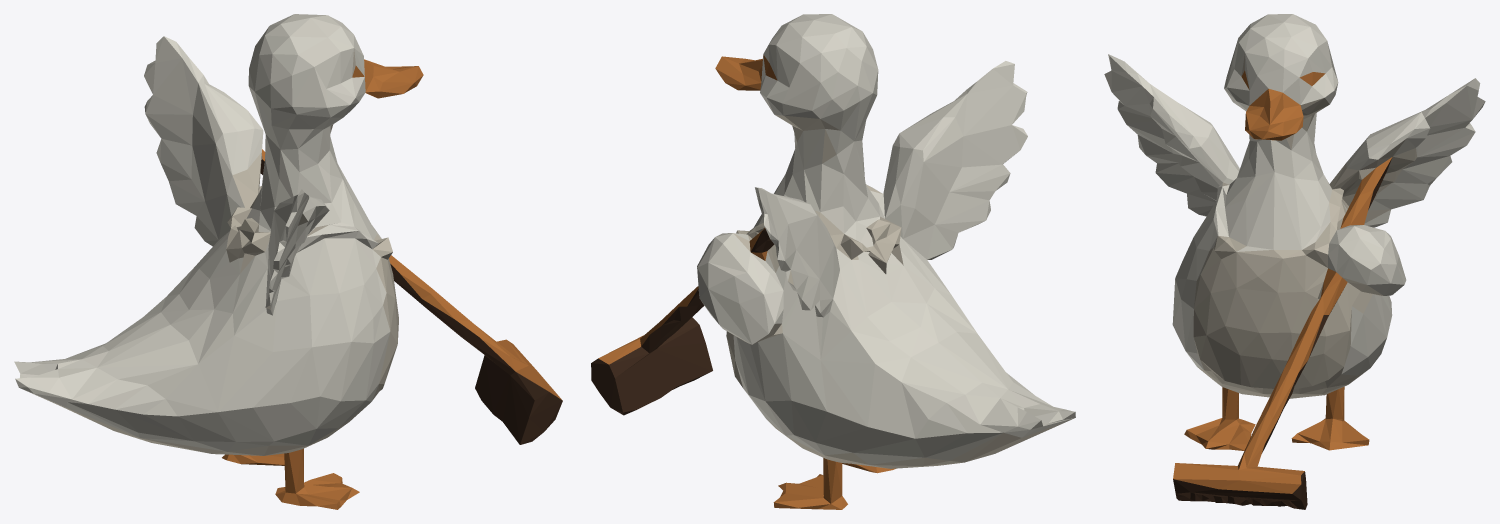
3 renders of one model, left to right at view 1: azimuth 30°, elevation 25°; view 2: azimuth 150°, elevation 25°; view 3: azimuth 270°, elevation 25°, orthographic. The views are drawn at different scales.
Parts seen in each view (by area): view 1: lion-1500; view 2: lion-1500; view 3: lion-1500.
Part boxes in pixels (bbox=[...]): lion-1500: bbox=[14, 14, 562, 509]; lion-1500: bbox=[591, 14, 1075, 509]; lion-1500: bbox=[1104, 14, 1485, 509].
Size of the model in its own units: 1 by 0.8782 by 0.7109.
